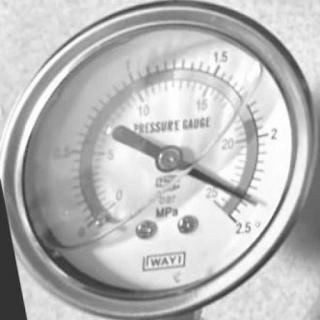gauge: (0, 0, 320, 319), (210, 194, 246, 232), (151, 145, 185, 175), (88, 214, 120, 234), (244, 194, 262, 208)
